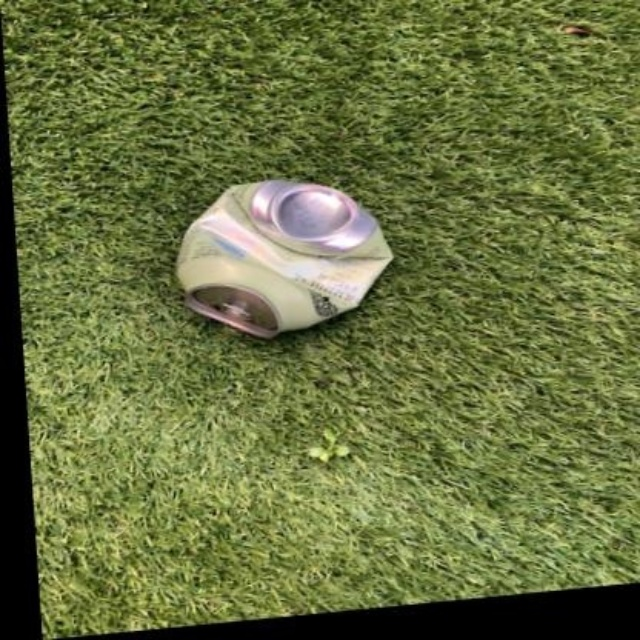trash: (177, 180, 391, 337)
